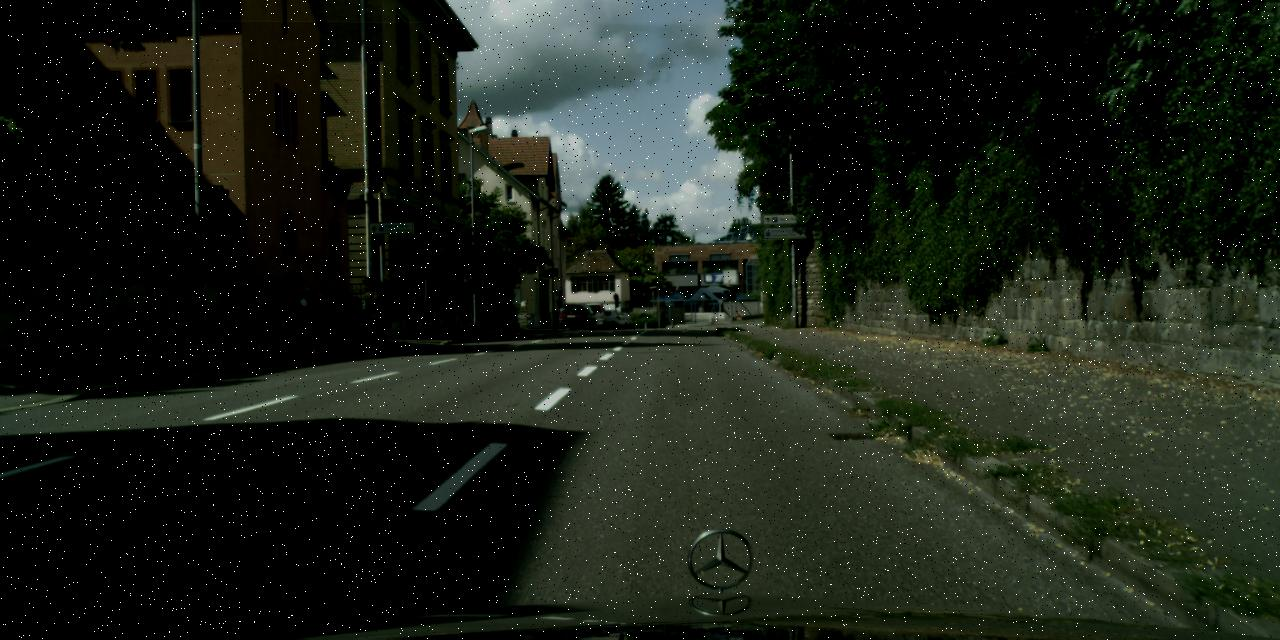ped: (278, 271, 310, 351), (290, 277, 320, 352), (660, 310, 667, 327)
